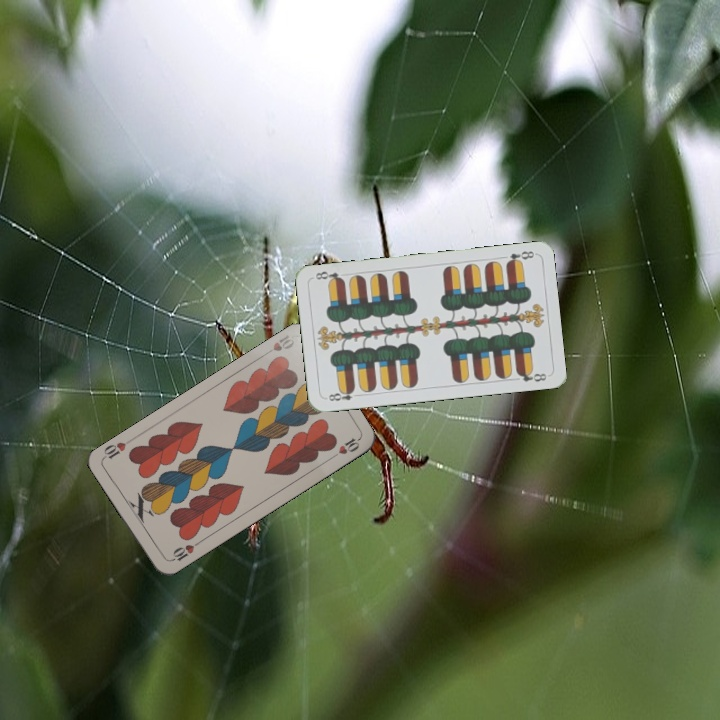E8: (324, 385, 363, 403), (502, 247, 536, 267)
H10: (259, 331, 297, 359), (166, 538, 202, 564)
